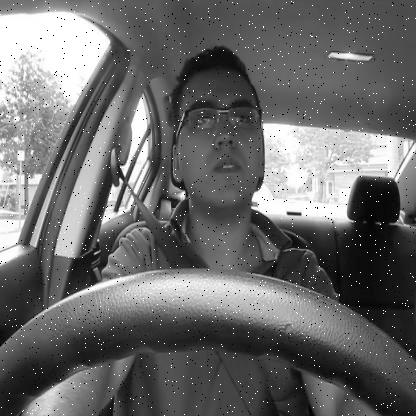seatbelt: (100, 35, 278, 416)
